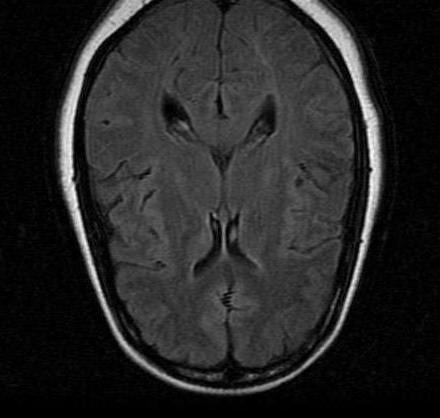Normal_Brain: (31, 1, 440, 418)
